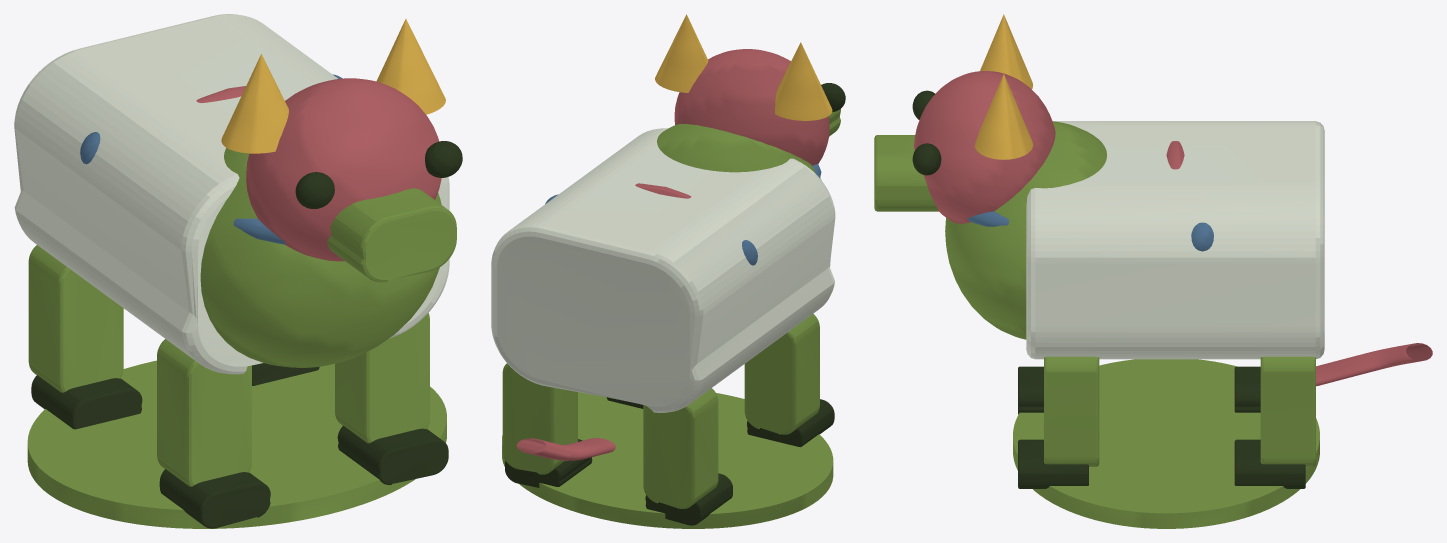
Rendered from 0847_两栖动物图鉴_环纹蚓螈.glb.
3 views of the same model, side by side, from view 1: azimuth 30°, elevation 25°; view 2: azimuth 150°, elevation 25°; view 3: azimuth 270°, elevation 25° (orthographic). The views are drawn at different scales.
Visible parts, largest first — view 1: card_0847; view 2: card_0847; view 3: card_0847.
Part boxes in pixels (x1=…): card_0847: x1=14, y1=14, x2=462, y2=528; card_0847: x1=491, y1=14, x2=845, y2=528; card_0847: x1=874, y1=14, x2=1432, y2=528.
Bounding box in the file's own units: 0.8195 × 1 × 1.24.
